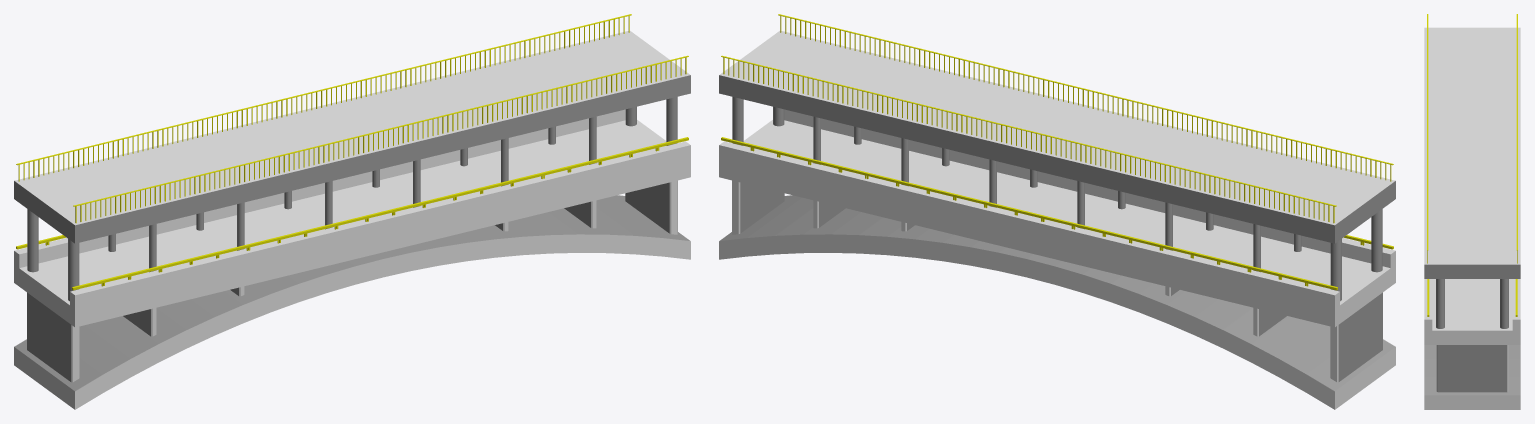
The model's file is Puente.fbx.
The picture shows the model from 3 angles, left to right: view 1: azimuth 30°, elevation 25°; view 2: azimuth 150°, elevation 25°; view 3: azimuth 270°, elevation 25°; orthographic projection. The views are drawn at different scales.
Parts seen in each view (by area): view 1: Cube, Cube.001, Cube.002, Cylinder, Cube.005, Cube.003; view 2: Cube, Cube.001, Cube.002, Cylinder, Cube.005, Cube.003; view 3: Cube.001, Cube, Cylinder, Cube.002, Cube.005, Cube.003.
Boxes of the visible parts, <box> form: Cube: <box>14,109,690,327</box>; Cube.001: <box>14,31,690,243</box>; Cube.002: <box>14,195,690,409</box>; Cylinder: <box>27,97,677,382</box>; Cube.005: <box>16,14,688,223</box>; Cube.003: <box>16,137,688,290</box>; Cube: <box>719,109,1395,327</box>; Cube.001: <box>719,31,1395,243</box>; Cube.002: <box>719,195,1395,409</box>; Cylinder: <box>732,97,1382,382</box>; Cube.005: <box>721,14,1393,223</box>; Cube.003: <box>721,137,1393,290</box>; Cube.001: <box>1424,27,1520,278</box>; Cube: <box>1424,279,1520,344</box>; Cylinder: <box>1436,279,1508,392</box>; Cube.002: <box>1424,345,1520,409</box>; Cube.005: <box>1427,14,1517,263</box>; Cube.003: <box>1427,279,1517,316</box>.
Size of the model in its own units: 3500 by 1099 by 600.
